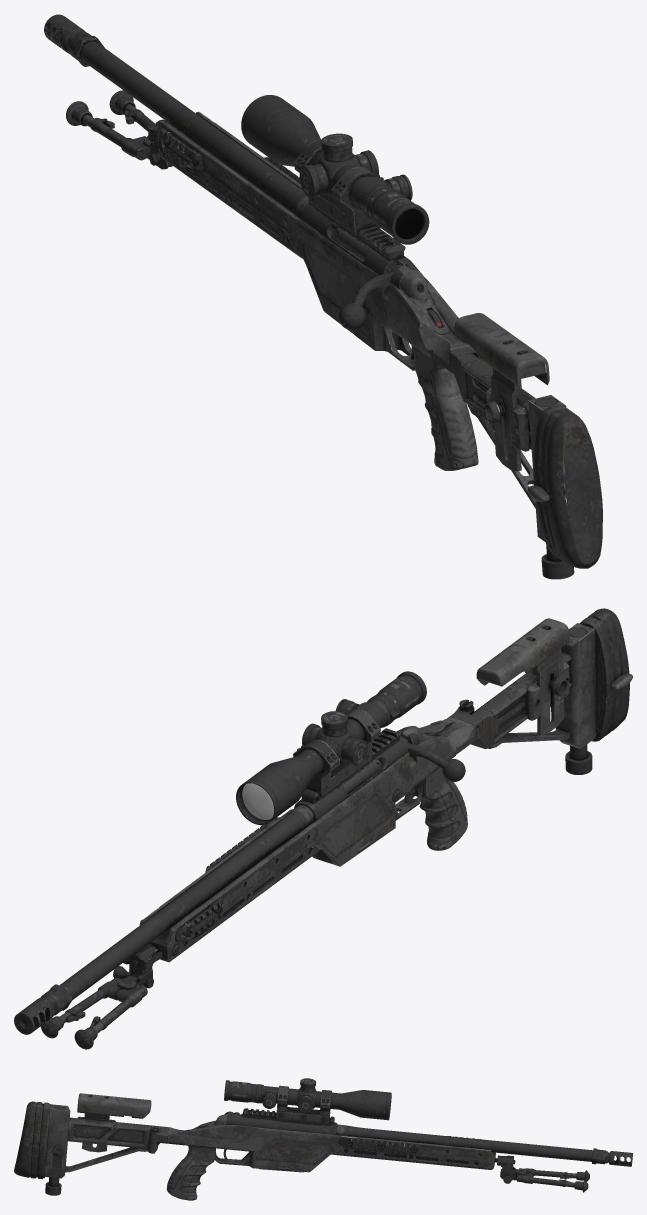
File: p_scout.glb
The picture shows the model from 3 angles, top to bottom: view 1: azimuth 30°, elevation 25°; view 2: azimuth 150°, elevation 25°; view 3: azimuth 270°, elevation 25°; orthographic projection. The views are drawn at different scales.
Visible parts, largest first — view 1: p_scout; view 2: p_scout; view 3: p_scout.
Part boxes in pixels (x1,y1,x2,y2): p_scout: (44, 14, 602, 579); p_scout: (14, 608, 632, 1049); p_scout: (14, 1078, 632, 1200).
Size of the model in its own units: 0.2406 by 0.3788 by 1.76.
2 materials, 2 textured.
